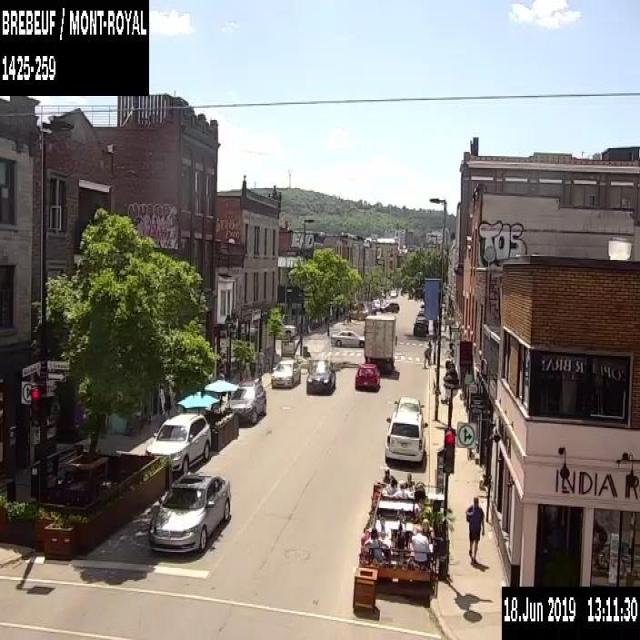pedestrian: (464, 495, 484, 565), (363, 526, 388, 564), (411, 524, 430, 563), (390, 480, 410, 498), (421, 518, 432, 542), (376, 516, 388, 536), (381, 467, 395, 482), (423, 346, 431, 369), (404, 472, 414, 488)
vehicle: (151, 473, 232, 555), (143, 409, 207, 477), (383, 414, 427, 464), (363, 314, 395, 378), (228, 378, 266, 422), (304, 359, 336, 393), (396, 394, 426, 428), (269, 357, 301, 387), (329, 326, 364, 346), (355, 361, 378, 391), (276, 320, 296, 338), (412, 317, 428, 336), (379, 300, 398, 312), (388, 287, 397, 297)
